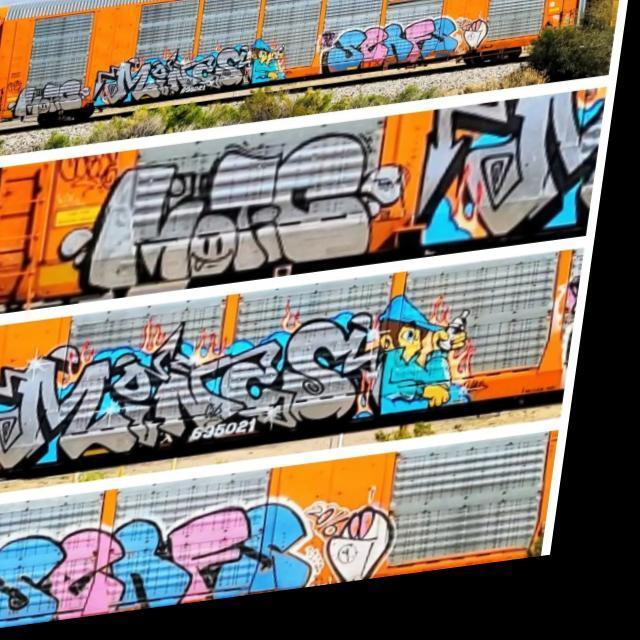-: (0, 304, 411, 484), (0, 474, 431, 638), (56, 129, 432, 312), (376, 281, 504, 442), (97, 48, 296, 111), (318, 25, 493, 86), (12, 76, 96, 124)
